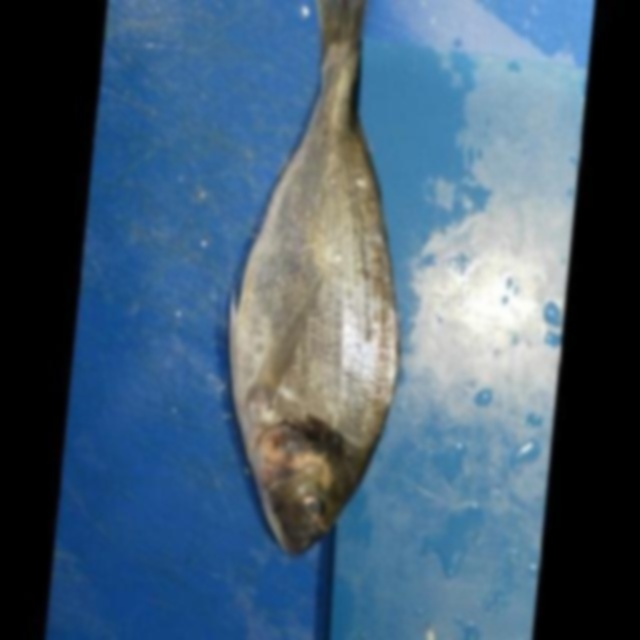Healthy Fish: (227, 0, 406, 557)
